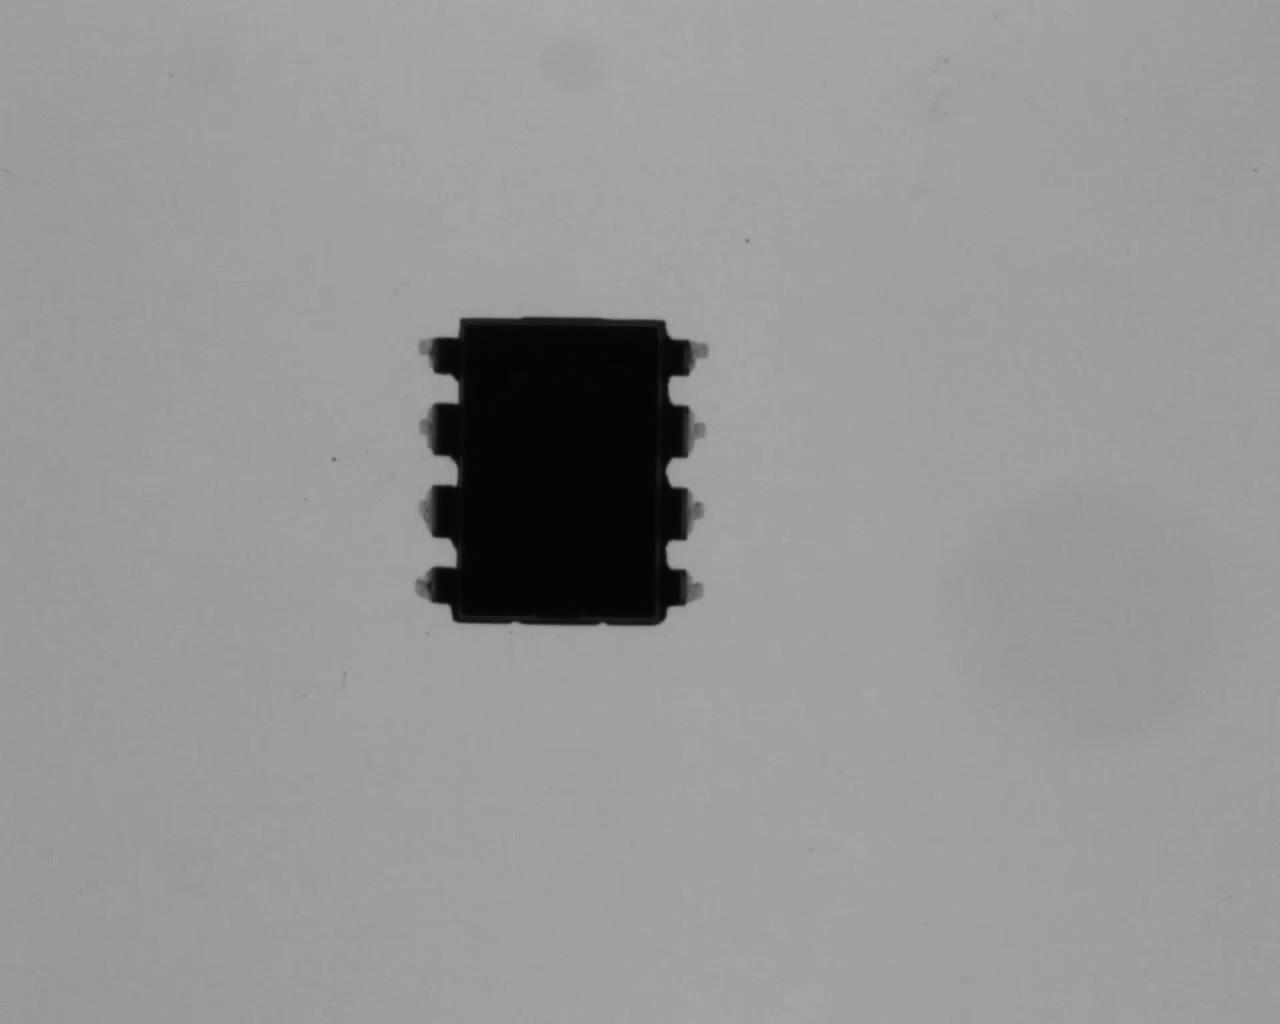Leg: (656, 397, 715, 463), (416, 473, 463, 548), (402, 396, 459, 458), (412, 330, 467, 388), (406, 563, 465, 618), (664, 484, 715, 541), (661, 565, 715, 614), (668, 328, 713, 380)
